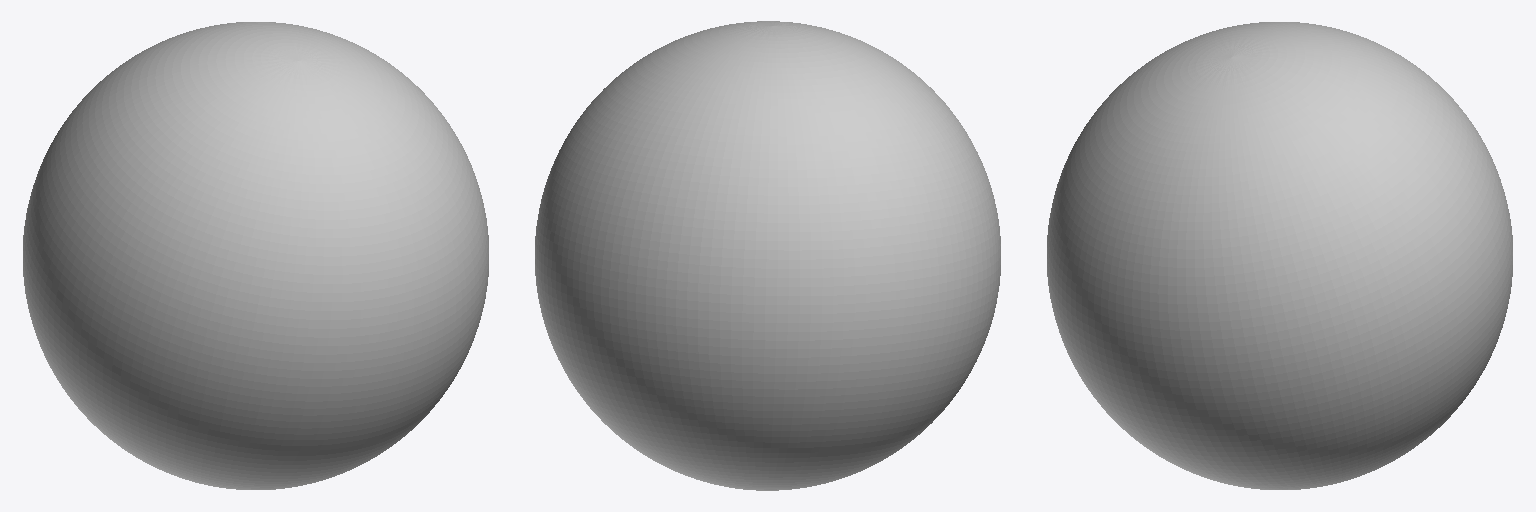
File: earth.obj
The picture shows the model from 3 angles: view 1: azimuth 30°, elevation 25°; view 2: azimuth 150°, elevation 25°; view 3: azimuth 270°, elevation 25°; orthographic projection.
Visible parts, largest first — view 1: Sphere.002_Sphere.000; view 2: Sphere.002_Sphere.000; view 3: Sphere.002_Sphere.000.
Boxes of the visible parts, box(x1,y1,x2,y2) form: Sphere.002_Sphere.000: box(23, 22, 488, 489); Sphere.002_Sphere.000: box(535, 21, 1000, 490); Sphere.002_Sphere.000: box(1047, 22, 1512, 489).
Size of the model in its own units: 6.95 by 6.99 by 6.95.